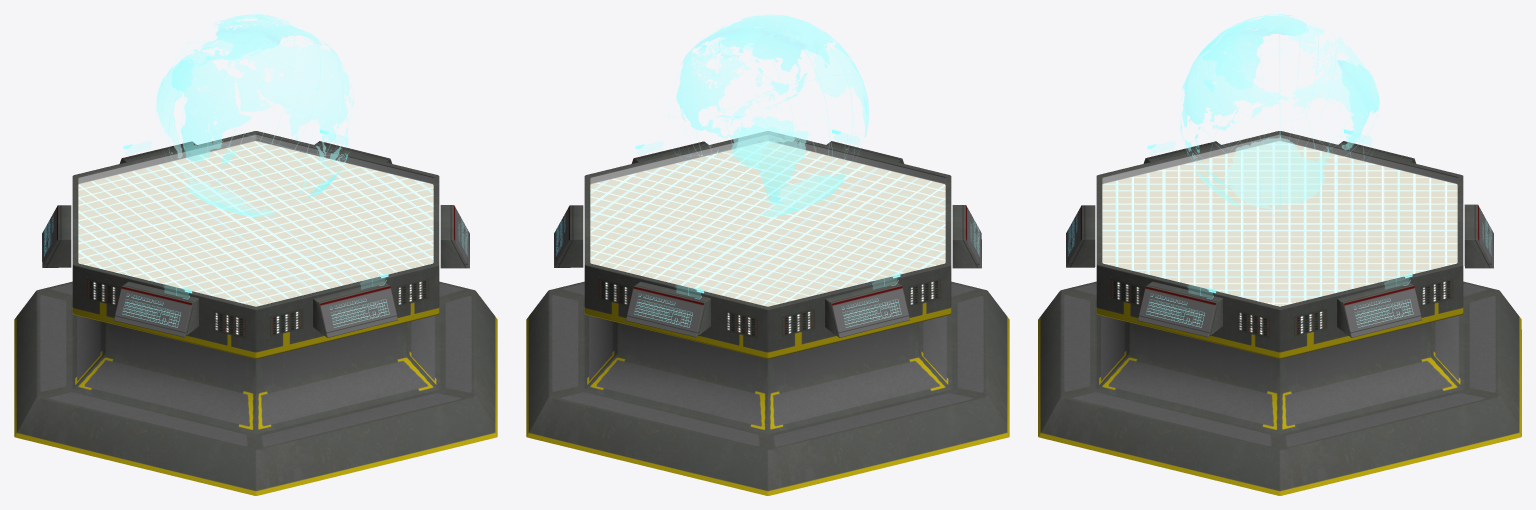
The model's file is TheGlobe.glb.
3 renders of one model, left to right at view 1: azimuth 30°, elevation 25°; view 2: azimuth 150°, elevation 25°; view 3: azimuth 270°, elevation 25°, orthographic.
Visible parts, largest first — view 1: Table, Hologram; view 2: Table, Hologram; view 3: Table, Hologram.
Boxes of the visible parts, box(x1,y1,x2,y2) form: Table: box(14, 129, 497, 495); Hologram: box(156, 14, 354, 216); Table: box(526, 129, 1009, 495); Hologram: box(668, 14, 869, 216); Table: box(1038, 129, 1521, 495); Hologram: box(1180, 14, 1379, 216).
Size of the model in its own units: 3.59 by 2.52 by 3.12.
2 materials, 2 textured.
